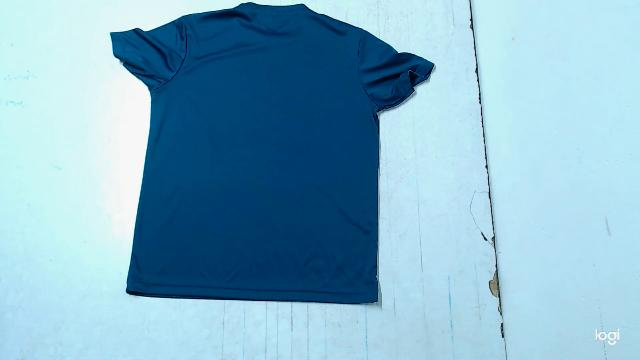new-garment: (111, 3, 433, 303)
